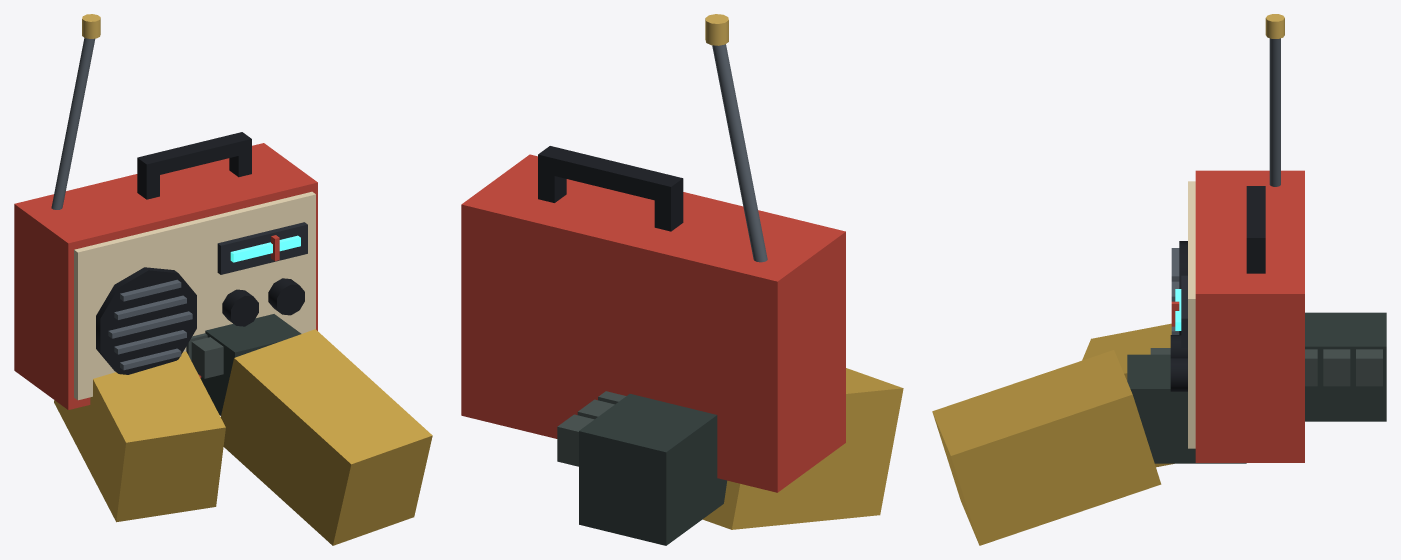
Rendered from bait_radio.glb.
The picture shows the model from 3 angles, left to right: view 1: azimuth 30°, elevation 25°; view 2: azimuth 150°, elevation 25°; view 3: azimuth 270°, elevation 25°; orthographic projection. The views are drawn at different scales.
Visible parts, largest first — view 1: _MeshInstance3D_4072, _MeshInstance3D_4046, _MeshInstance3D_4066, _MeshInstance3D_4047, _MeshInstance3D_4048, _MeshInstance3D_4071, _MeshInstance3D_4051, _MeshInstance3D_4049, _MeshInstance3D_4050, _MeshInstance3D_4075, _MeshInstance3D_4061, _MeshInstance3D_4062 (+8 smaller); view 2: _MeshInstance3D_4046, _MeshInstance3D_4065, _MeshInstance3D_4066, _MeshInstance3D_4051, _MeshInstance3D_4050, _MeshInstance3D_4067, _MeshInstance3D_4052, _MeshInstance3D_4053, _MeshInstance3D_4063; view 3: _MeshInstance3D_4046, _MeshInstance3D_4072, _MeshInstance3D_4065, _MeshInstance3D_4071, _MeshInstance3D_4047, _MeshInstance3D_4066, _MeshInstance3D_4050, _MeshInstance3D_4051, _MeshInstance3D_4068, _MeshInstance3D_4067, _MeshInstance3D_4062.
Part boxes in pixels (bbox=[...]): _MeshInstance3D_4072: bbox=[220, 329, 432, 545]; _MeshInstance3D_4046: bbox=[14, 143, 317, 409]; _MeshInstance3D_4066: bbox=[54, 351, 225, 522]; _MeshInstance3D_4047: bbox=[74, 191, 315, 400]; _MeshInstance3D_4048: bbox=[96, 267, 196, 374]; _MeshInstance3D_4071: bbox=[200, 314, 301, 415]; _MeshInstance3D_4051: bbox=[137, 132, 251, 177]; _MeshInstance3D_4049: bbox=[217, 222, 307, 274]; _MeshInstance3D_4050: bbox=[51, 38, 95, 209]; _MeshInstance3D_4075: bbox=[191, 337, 223, 378]; _MeshInstance3D_4061: bbox=[222, 289, 258, 326]; _MeshInstance3D_4062: bbox=[268, 278, 304, 315]; _MeshInstance3D_4046: bbox=[461, 154, 845, 492]; _MeshInstance3D_4065: bbox=[579, 394, 726, 545]; _MeshInstance3D_4066: bbox=[702, 368, 903, 529]; _MeshInstance3D_4051: bbox=[538, 146, 683, 204]; _MeshInstance3D_4050: bbox=[712, 44, 767, 262]; _MeshInstance3D_4067: bbox=[557, 414, 594, 466]; _MeshInstance3D_4052: bbox=[654, 191, 683, 231]; _MeshInstance3D_4053: bbox=[538, 162, 566, 202]; _MeshInstance3D_4063: bbox=[705, 14, 728, 45]; _MeshInstance3D_4046: bbox=[1195, 170, 1304, 462]; _MeshInstance3D_4072: bbox=[932, 350, 1161, 545]; _MeshInstance3D_4065: bbox=[1305, 312, 1386, 421]; _MeshInstance3D_4071: bbox=[1127, 354, 1246, 463]; _MeshInstance3D_4047: bbox=[1188, 181, 1195, 448]; _MeshInstance3D_4066: bbox=[1082, 323, 1174, 467]; _MeshInstance3D_4050: bbox=[1269, 38, 1280, 186]; _MeshInstance3D_4051: bbox=[1246, 186, 1265, 251]; _MeshInstance3D_4068: bbox=[1323, 349, 1350, 386]; _MeshInstance3D_4067: bbox=[1356, 349, 1382, 386]; _MeshInstance3D_4062: bbox=[1170, 357, 1187, 391].
Size of the model in its own units: 0.152 by 0.2532 by 0.2367.
